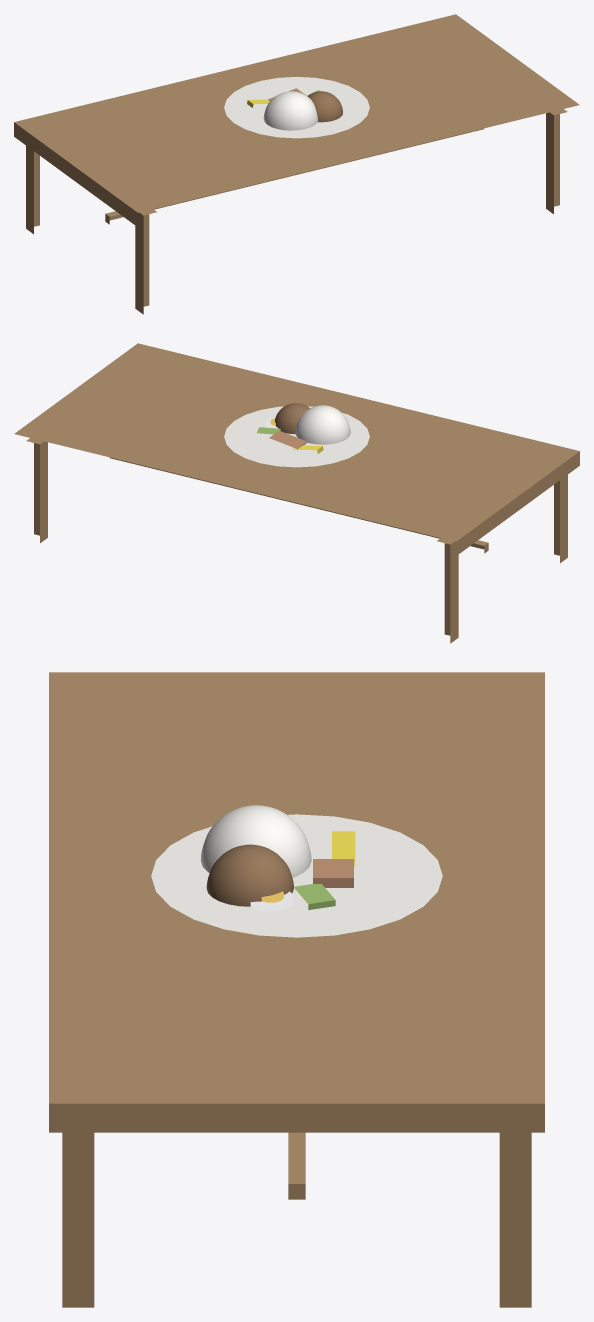
Rendered from bandeja_paisa_mesa.glb.
3 views of the same model, one above another, from view 1: azimuth 30°, elevation 25°; view 2: azimuth 150°, elevation 25°; view 3: azimuth 270°, elevation 25° (orthographic). The views are drawn at different scales.
Visible parts, largest first — view 1: tablero, plato, pata (×3), arroz, frijoles, refuerzo; view 2: tablero, plato, pata (×3), arroz, frijoles, refuerzo; view 3: tablero, plato, pata (×2), arroz, frijoles, refuerzo, chicharron.
Boxes of the visible parts, <box> form: tablero: <box>14,14,579,226</box>; plato: <box>224,77,369,138</box>; pata (×3): <box>26,109,567,314</box>; arroz: <box>263,91,317,130</box>; frijoles: <box>307,91,342,122</box>; refuerzo: <box>105,128,484,224</box>; tablero: <box>14,343,579,555</box>; plato: <box>224,406,369,467</box>; pata (×3): <box>26,438,567,643</box>; arroz: <box>295,405,350,444</box>; frijoles: <box>274,403,309,434</box>; refuerzo: <box>109,457,488,553</box>; tablero: <box>49,672,544,1132</box>; plato: <box>151,814,442,937</box>; pata (×2): <box>62,1132,531,1307</box>; arroz: <box>200,805,311,877</box>; frijoles: <box>206,844,293,906</box>; refuerzo: <box>288,1132,305,1199</box>; chicharron: <box>313,859,353,887</box>.
Bounding box in the file's own units: 7 × 2.08 × 3.4.
